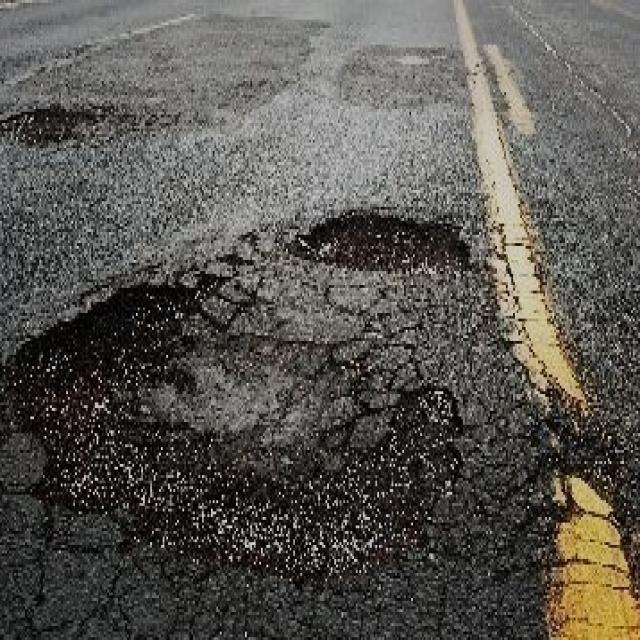road-pothole: (3, 260, 464, 589), (290, 192, 483, 277), (0, 98, 127, 152)
